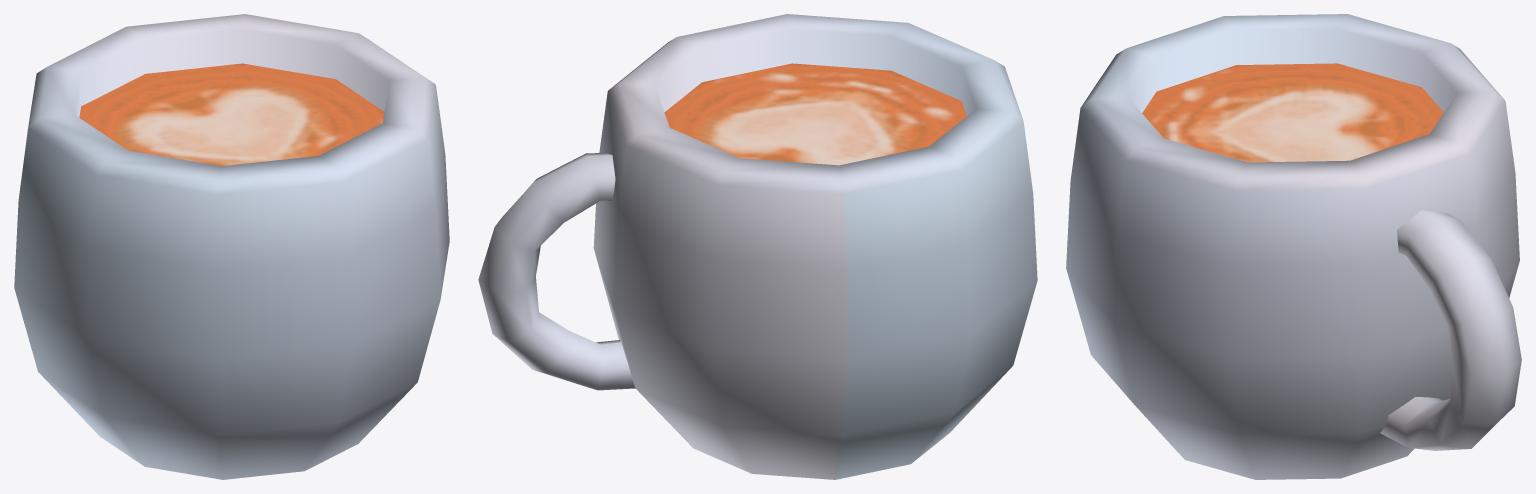
The model's file is coffee_cup_B.glb.
3 views of the same model, side by side, from view 1: azimuth 30°, elevation 25°; view 2: azimuth 150°, elevation 25°; view 3: azimuth 270°, elevation 25° (orthographic).
Visible parts, largest first — view 1: coffee_cup_B; view 2: coffee_cup_B; view 3: coffee_cup_B.
Part boxes in pixels (box(x1,y1,x2,y2)): coffee_cup_B: box(14, 14, 449, 479); coffee_cup_B: box(478, 14, 1037, 479); coffee_cup_B: box(1066, 14, 1521, 479).
Size of the model in its own units: 0.3242 by 0.2364 by 0.2974.
Materials: 1 (1 with a texture image).
